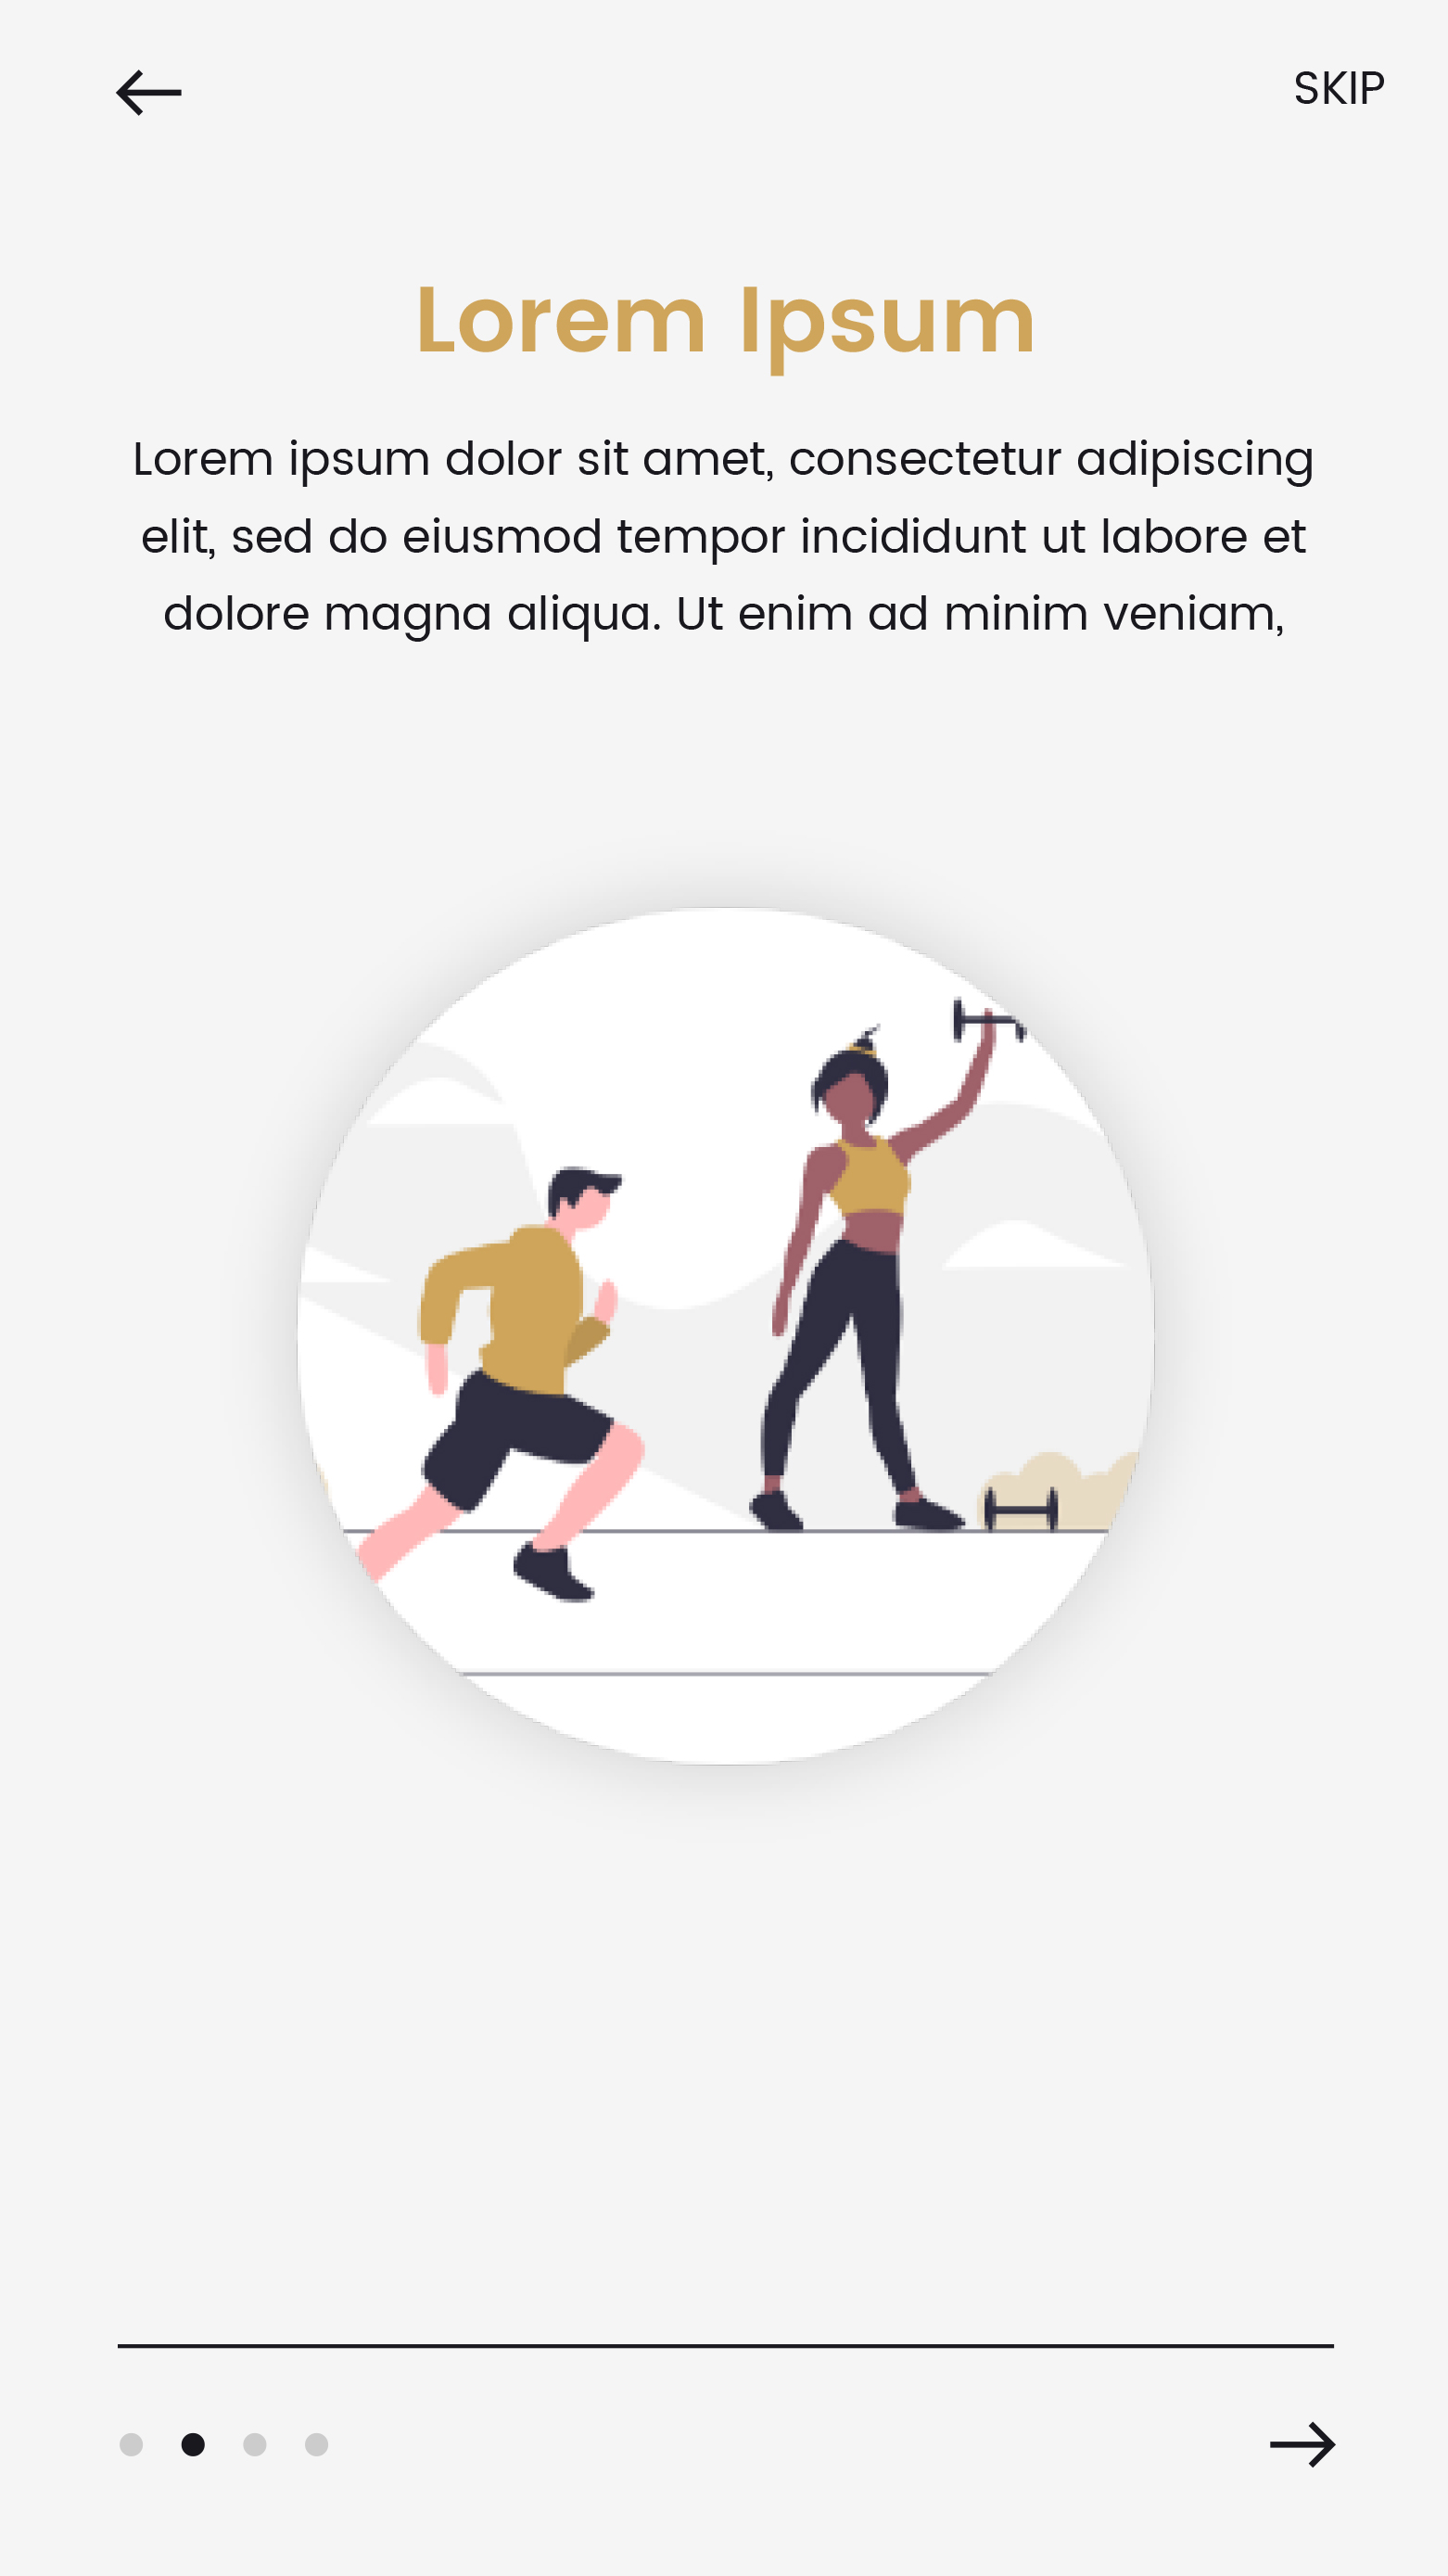Icon: (117, 71, 184, 119), (1269, 2420, 1337, 2468)
Image: (297, 909, 1160, 1766)
PageIndicator: (118, 2431, 331, 2457)
Text: (134, 439, 1314, 644), (421, 285, 1033, 377), (1294, 71, 1384, 106)
